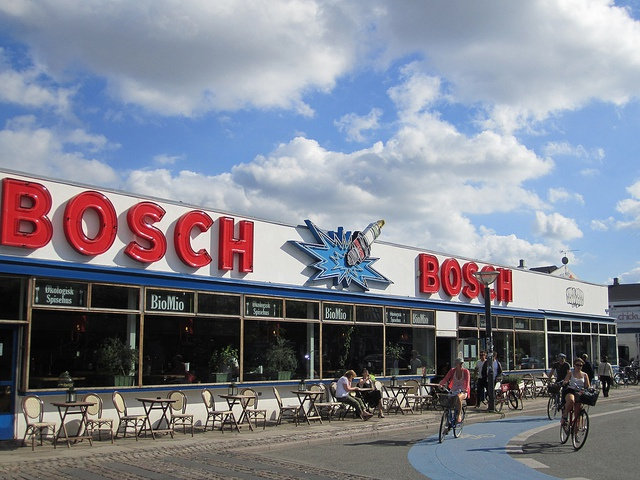non-vehicle: (559, 382, 597, 448), (438, 386, 467, 444), (493, 376, 518, 412), (546, 376, 564, 420), (613, 370, 639, 385)
